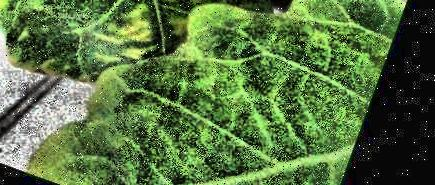Non-critical Stress: (0, 1, 435, 185)
